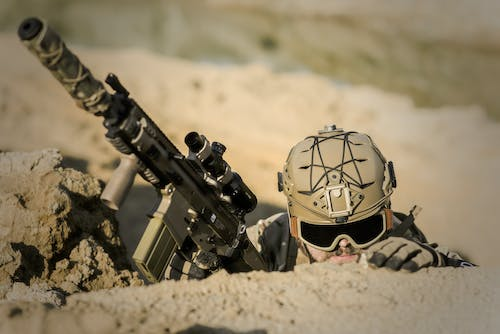gun: (15, 14, 268, 281)
